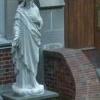Statue: (8, 2, 51, 94)
